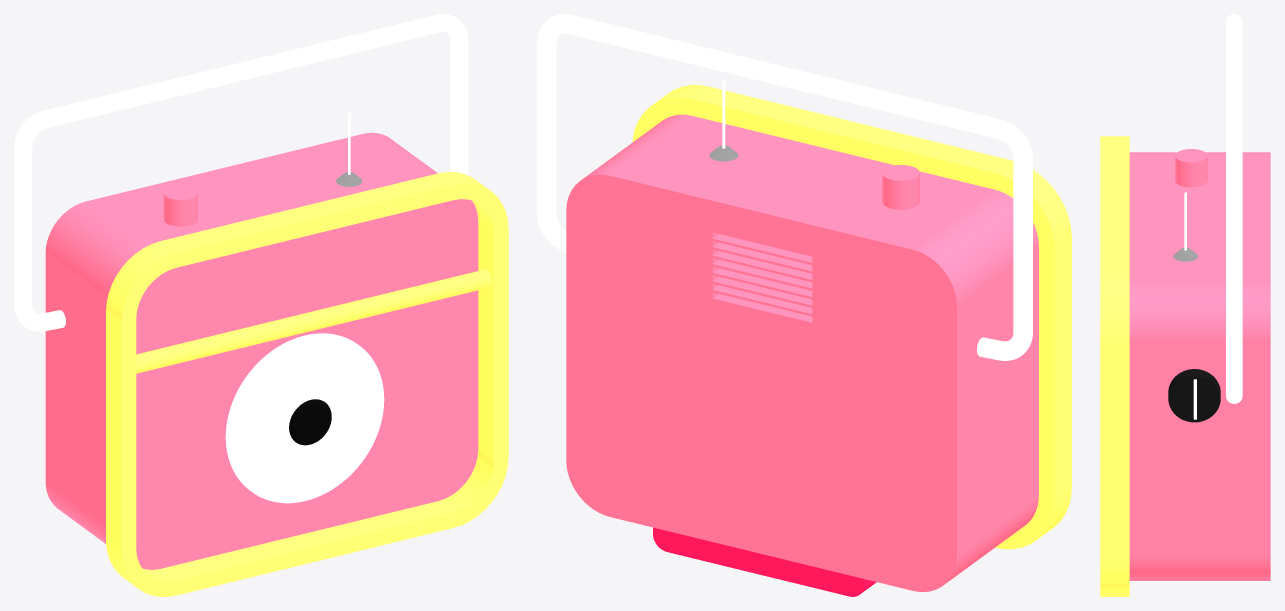
Rendered from crude_audio_player.gltf.
3 views of the same model, side by side, from view 1: azimuth 30°, elevation 25°; view 2: azimuth 150°, elevation 25°; view 3: azimuth 270°, elevation 25° (orthographic). The views are drawn at different scales.
Visible parts, largest first — view 1: Extruded.004; view 2: Extruded.004; view 3: Extruded.004.
Part boxes in pixels (x1,y1,x2,y2): Extruded.004: [14, 14, 508, 596]; Extruded.004: [537, 14, 1071, 596]; Extruded.004: [1100, 14, 1270, 596].
Size of the model in its own units: 1.78 by 1.7 by 0.6187.
